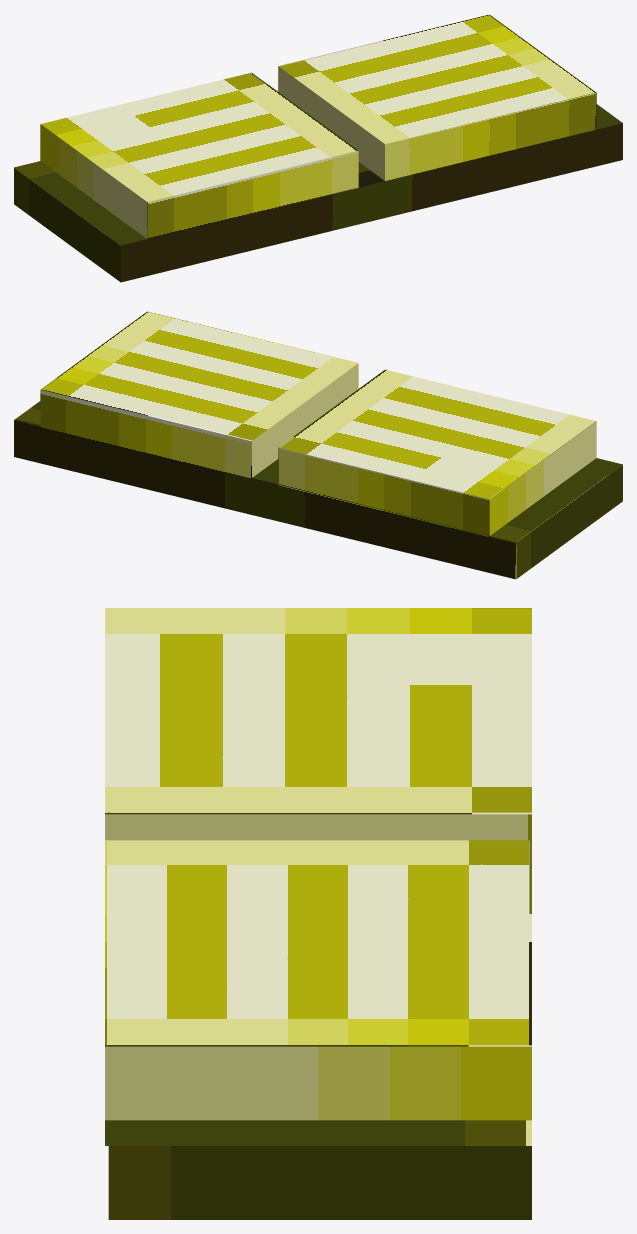
The model's file is book_642x00.obj.
3 renders of one model, top to bottom at view 1: azimuth 30°, elevation 25°; view 2: azimuth 150°, elevation 25°; view 3: azimuth 270°, elevation 25°, orthographic. The views are drawn at different scales.
Parts seen in each view (by area): view 1: Cube; view 2: Cube; view 3: Cube.
Boxes of the visible parts, left/top/right/bottom form: Cube: left=14, top=14, right=622, bottom=282; Cube: left=14, top=311, right=622, bottom=579; Cube: left=105, top=608, right=531, bottom=1219.
Bounding box in the file's own units: 2.38 × 0.3333 × 0.875.
